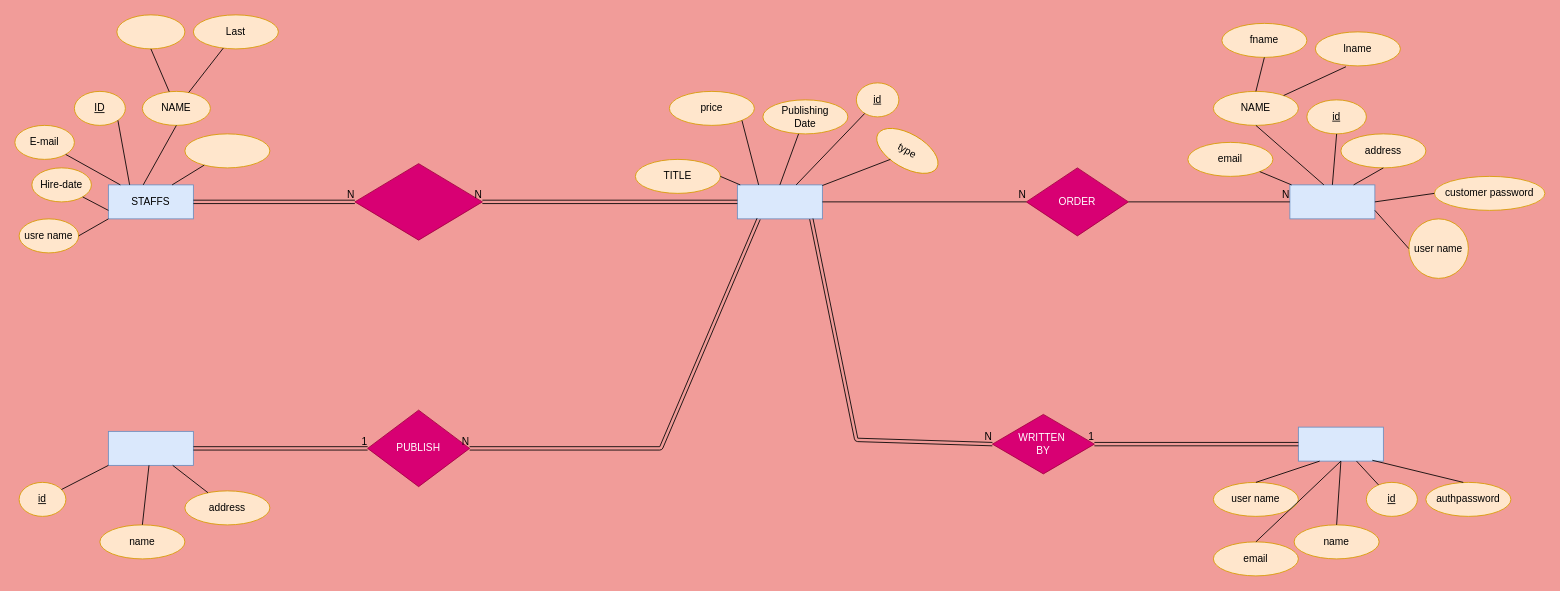
Some shapes in this 1560 by 591 pixel diagram are drawn without their labels. The shapes that lost their labels are listed below. From the top down, each one's centre as x and y in pixels, then its label:
At point (150, 31): "First".
At point (227, 150): "password_stuff".
At point (418, 201): "MANAGE /UPDATE /DELETE".
At point (779, 201): "BOOKS".
At point (1332, 201): "CUSTOMERS".
At point (150, 448): "PUBLISHER".
At point (1340, 443): "AUTHORS".
